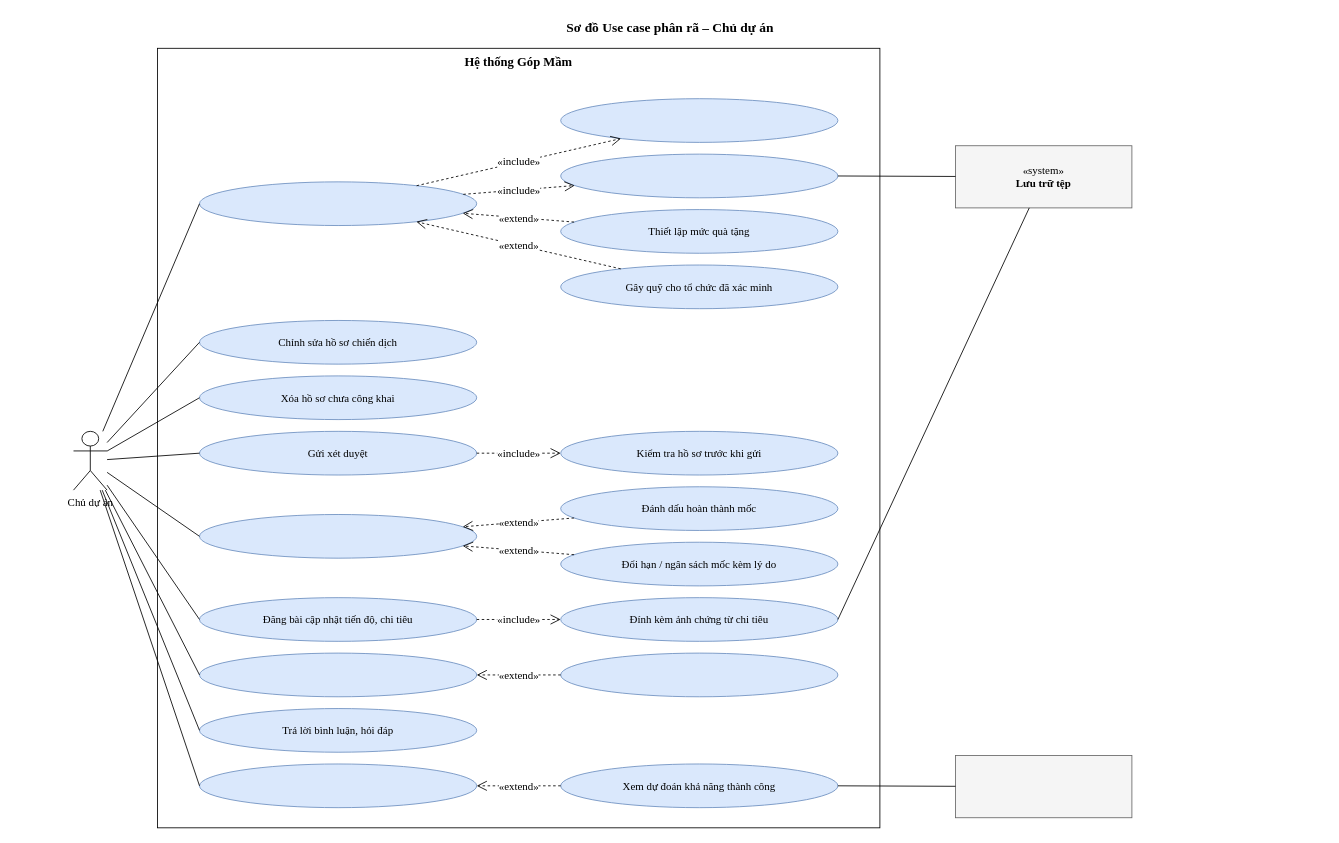
This 1339x843 diagram has some shape labels left out. The centre of each missing label's shape, as x and y in pixels:
Lập kế hoạch theo mốc: the point at 699,120
Quản lý mốc tiến độ: the point at 338,536
Quản lý mức quà tặng: the point at 338,674
Theo dõi dashboard chiến dịch: the point at 338,785
Tạo chiến dịch (biểu mẫu 8 bước): the point at 338,203
Tải ảnh lên: the point at 699,175
Xem danh sách người nhận quà: the point at 699,674
«system» Dịch vụ AI: the point at 1043,786
